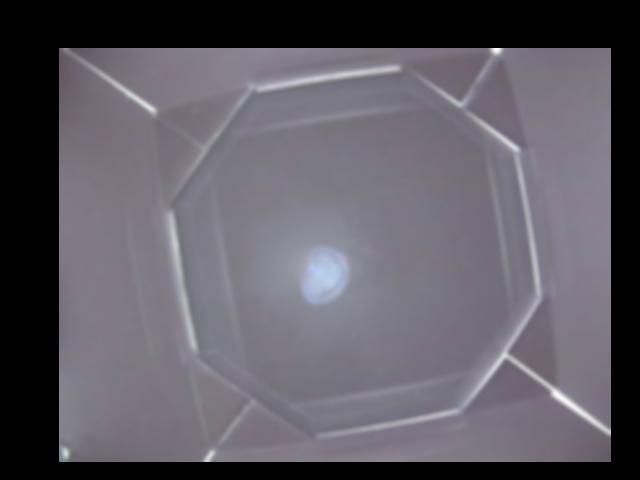Pebble: (304, 246, 347, 301)
